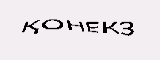Е: (84, 20, 100, 34)
З: (118, 21, 136, 37)
К: (101, 21, 120, 35)
Н: (64, 20, 85, 33)
О: (40, 18, 64, 31)
Қ: (20, 19, 42, 35)
